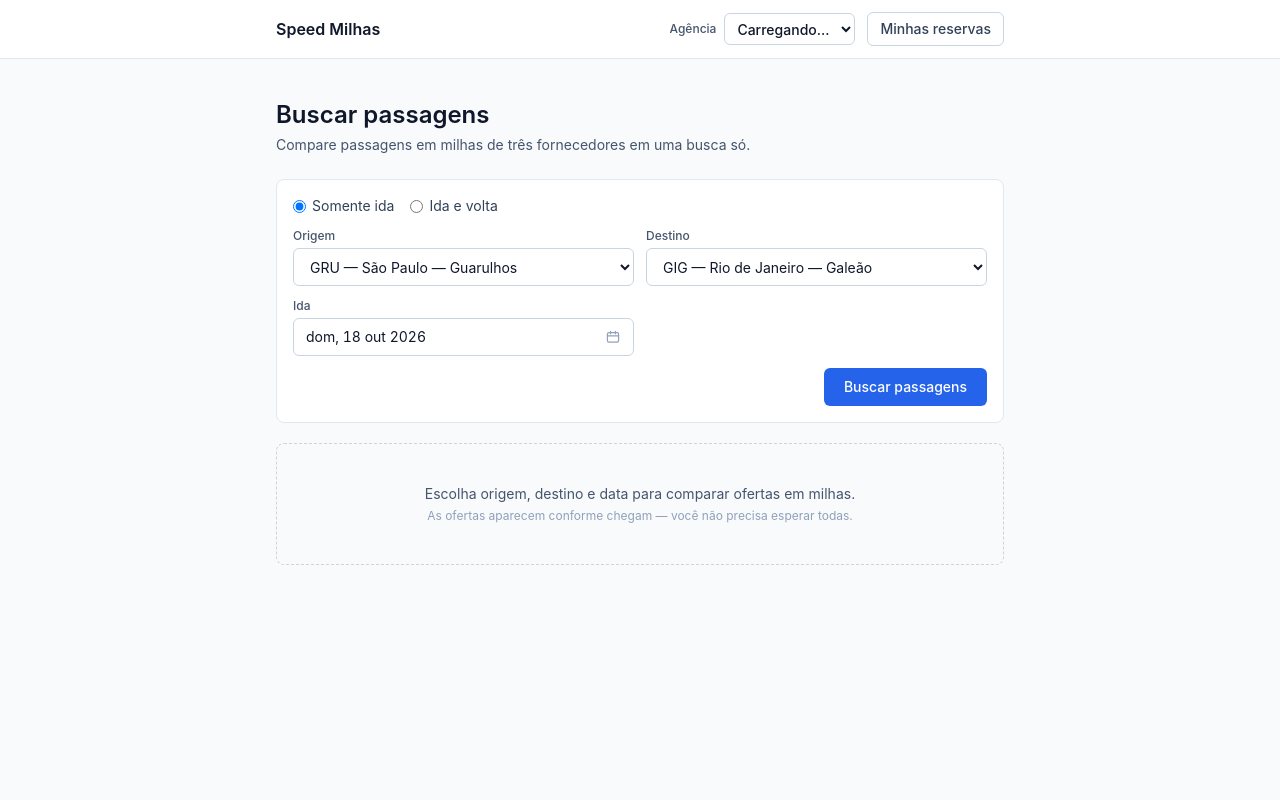
Test case: E2E - Validações da reserva › deve impedir selecionar uma data de volta anterior à ida
This screenshot has width=1280, height=800.
// Seleciona a opção de ida e volta
Check the radio button labelled "Ida e volta": (418, 207) [411,200,424,213]
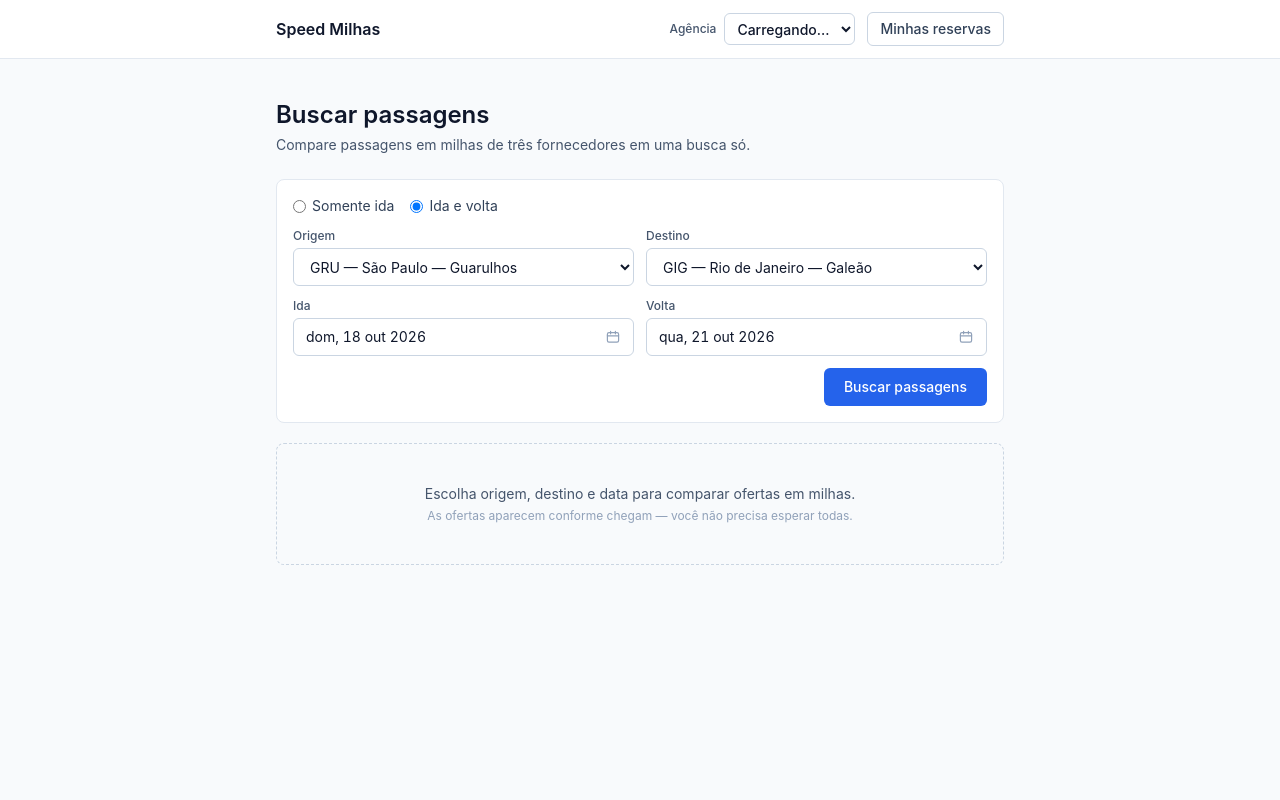
// Abre o calendário da data de volta
Click the button "qua, 21 out 2026": (717, 337) [646,318,987,356]
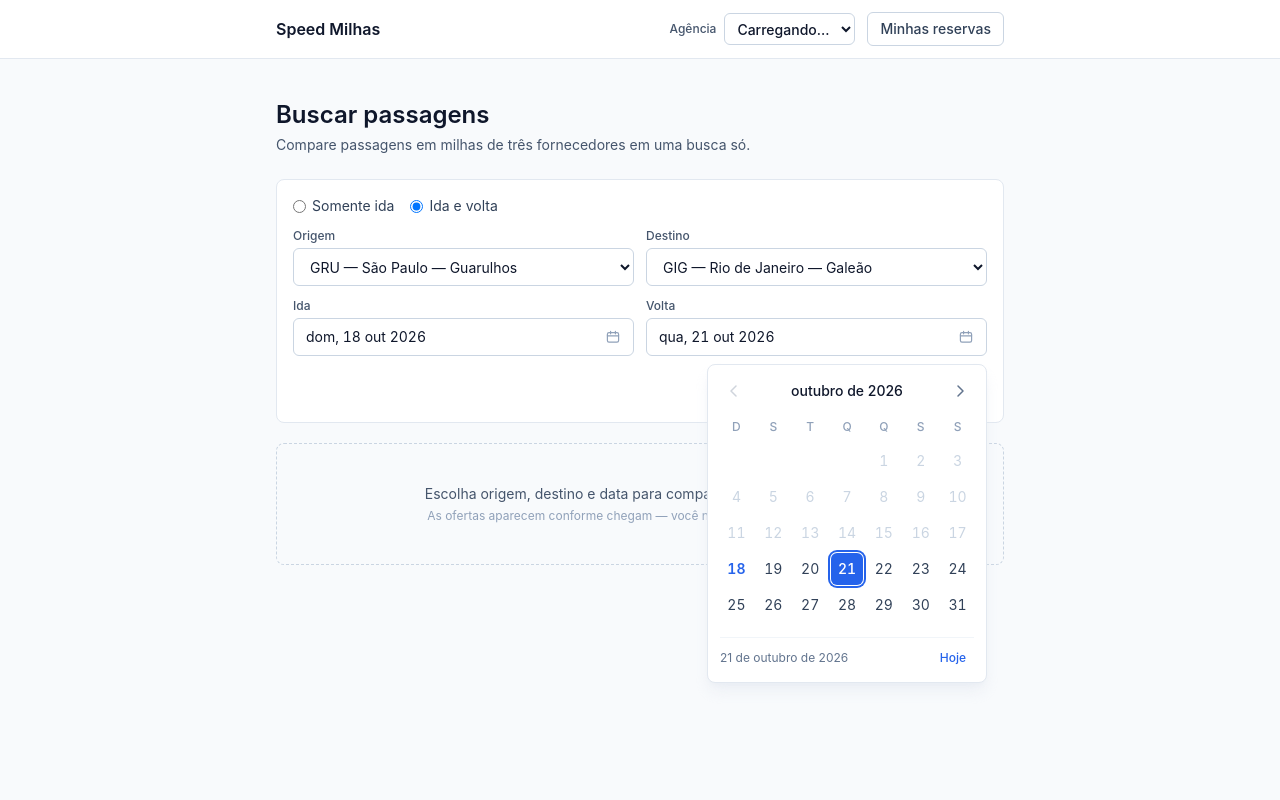
Now the dialog is shown, box [707,364,987,683]
